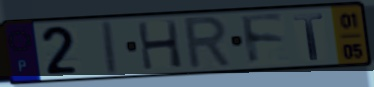2: (41, 24, 85, 78)
F: (238, 13, 287, 68)
H: (134, 18, 185, 72)
I: (102, 18, 122, 77)
R: (182, 14, 235, 72)
T: (291, 12, 326, 62)
